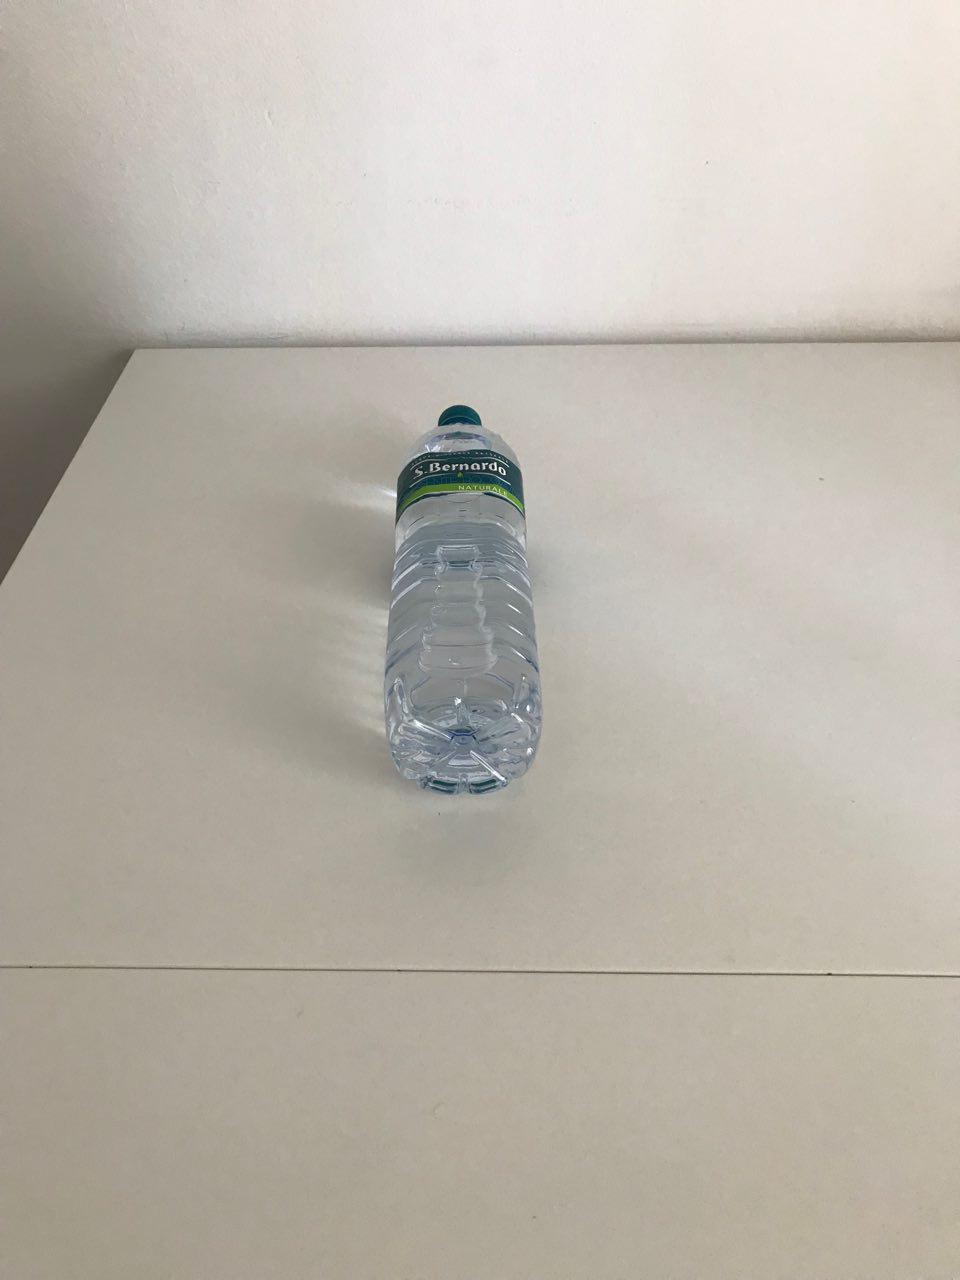san_bernardo: (381, 403, 545, 796)
